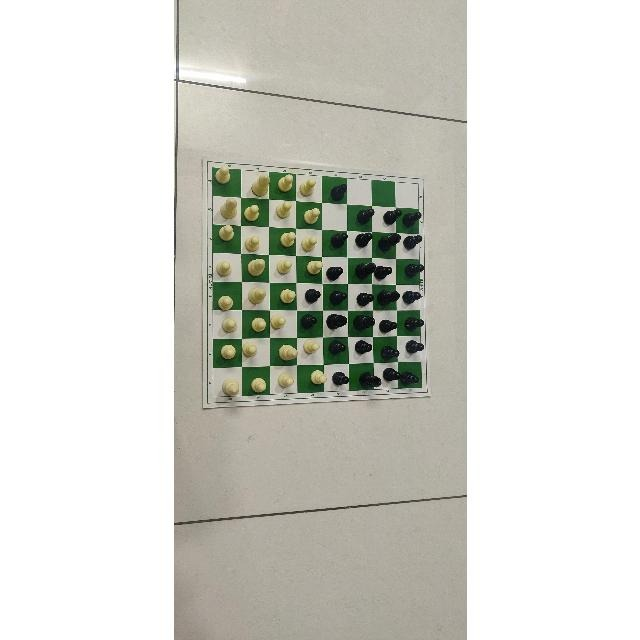black-bishop: (375, 229, 401, 255), (357, 365, 380, 391), (351, 257, 374, 283), (322, 311, 348, 333), (350, 313, 376, 335), (375, 286, 401, 307)
black-pawn: (402, 312, 430, 331), (400, 208, 424, 230), (397, 367, 426, 385), (401, 258, 424, 280), (353, 205, 377, 226), (328, 179, 348, 204), (382, 204, 402, 228), (402, 233, 426, 253), (326, 286, 350, 306), (379, 364, 400, 386), (296, 313, 319, 333), (374, 261, 397, 281), (400, 287, 425, 305), (402, 338, 427, 356), (324, 260, 344, 282), (353, 337, 373, 359), (353, 287, 373, 308), (378, 341, 400, 360), (353, 232, 373, 252), (329, 368, 349, 388), (328, 232, 347, 252), (301, 287, 321, 306), (378, 316, 400, 333), (326, 339, 346, 357)
white-bishop: (247, 167, 272, 199), (217, 371, 240, 402), (271, 340, 299, 362), (218, 191, 238, 221), (243, 257, 267, 277), (246, 285, 266, 305)
white-pawn: (209, 292, 236, 314), (214, 340, 238, 364), (209, 259, 235, 281), (246, 370, 268, 395), (208, 162, 231, 185), (300, 205, 324, 227), (272, 257, 296, 279), (295, 176, 320, 197), (242, 202, 263, 227), (273, 171, 293, 196), (240, 232, 265, 252), (303, 369, 326, 390), (213, 316, 239, 334), (273, 369, 293, 392), (298, 231, 318, 254), (301, 257, 321, 280), (275, 285, 298, 305), (273, 229, 295, 249), (272, 202, 293, 222), (246, 314, 266, 334), (215, 226, 235, 244), (269, 312, 287, 332), (242, 340, 258, 360), (301, 338, 321, 354)
